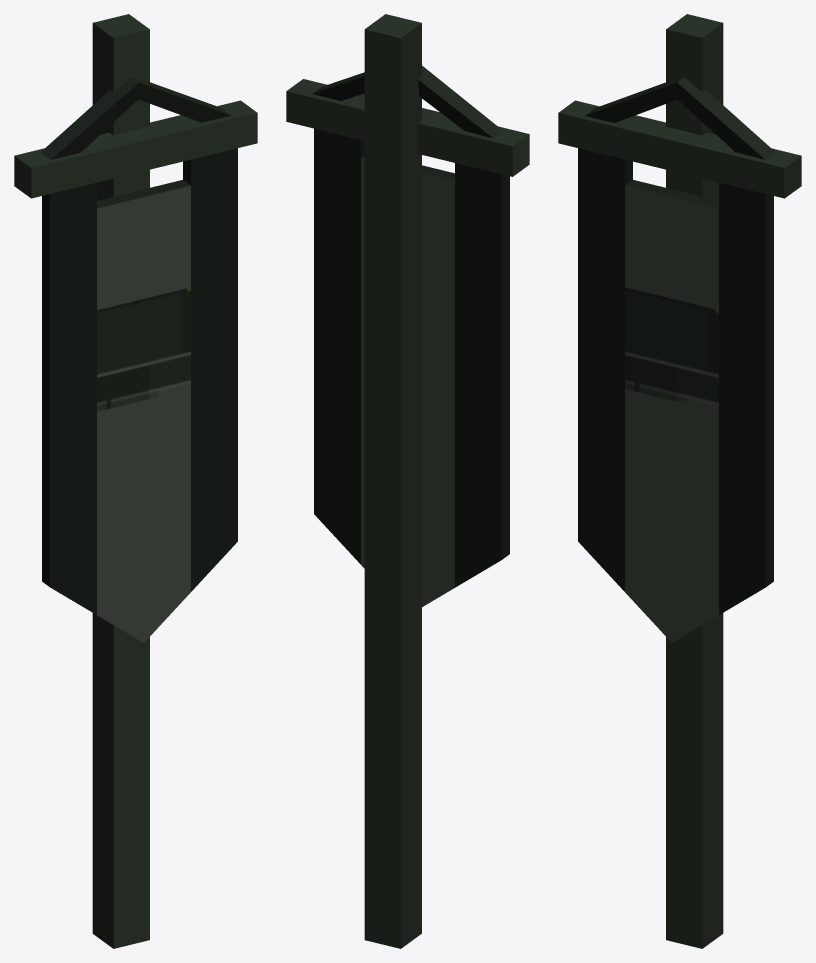
File: SF_Prop_Flag_01.glb
3 renders of one model, left to right at view 1: azimuth 30°, elevation 25°; view 2: azimuth 150°, elevation 25°; view 3: azimuth 330°, elevation 25°, orthographic.
Visible parts, largest first — view 1: SF_Prop_Flag_01; view 2: SF_Prop_Flag_01; view 3: SF_Prop_Flag_01.
Part boxes in pixels (box(x1,y1,x2,y2)): SF_Prop_Flag_01: box(14, 14, 257, 948); SF_Prop_Flag_01: box(286, 14, 529, 948); SF_Prop_Flag_01: box(558, 14, 801, 948).
Bounding box in the file's own units: 0.0142 × 0.0548 × 0.00367.
Materials: 1 (1 with a texture image).
